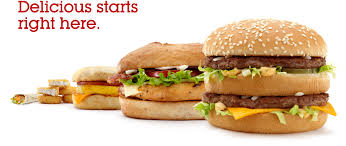hamburger: (198, 16, 337, 138), (116, 39, 248, 121), (72, 60, 130, 115)
